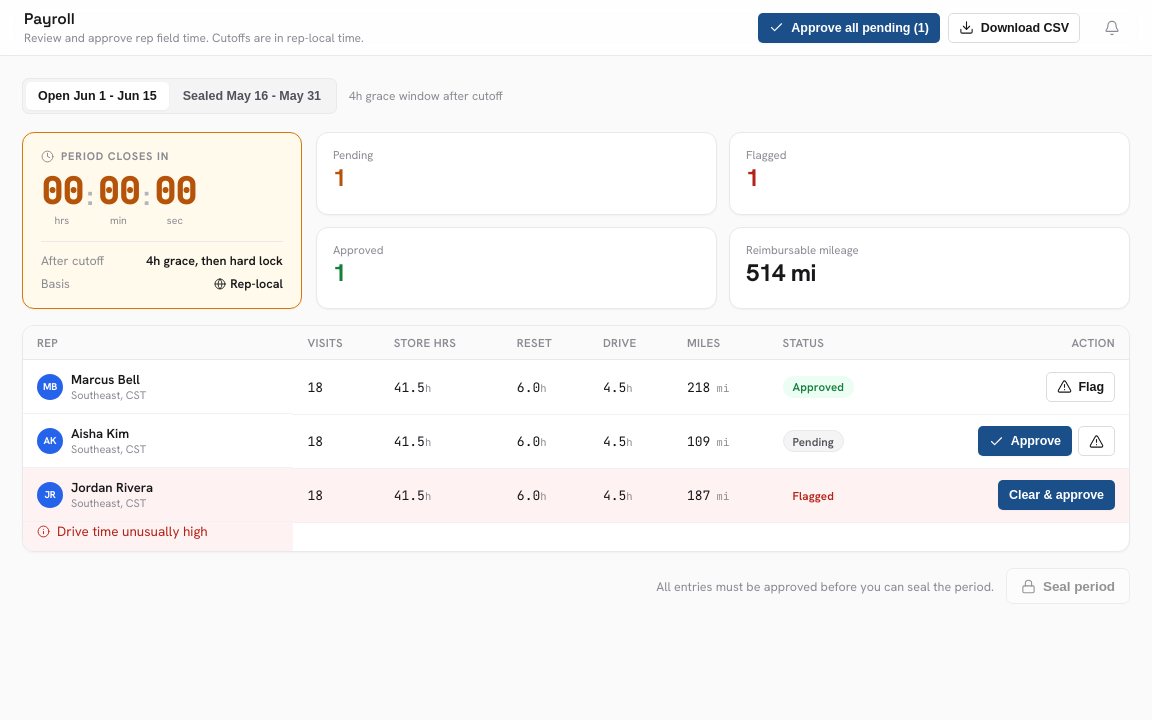
Test case: Payroll (admin) - sealed period › Reopen modal requires a reason before confirming
Expected: the text "Marcus Bell" is shown, [71,371,146,388]
Click the button "Sealed May 16 - May 31" at x=252, y=96, box [171,82,333,110]
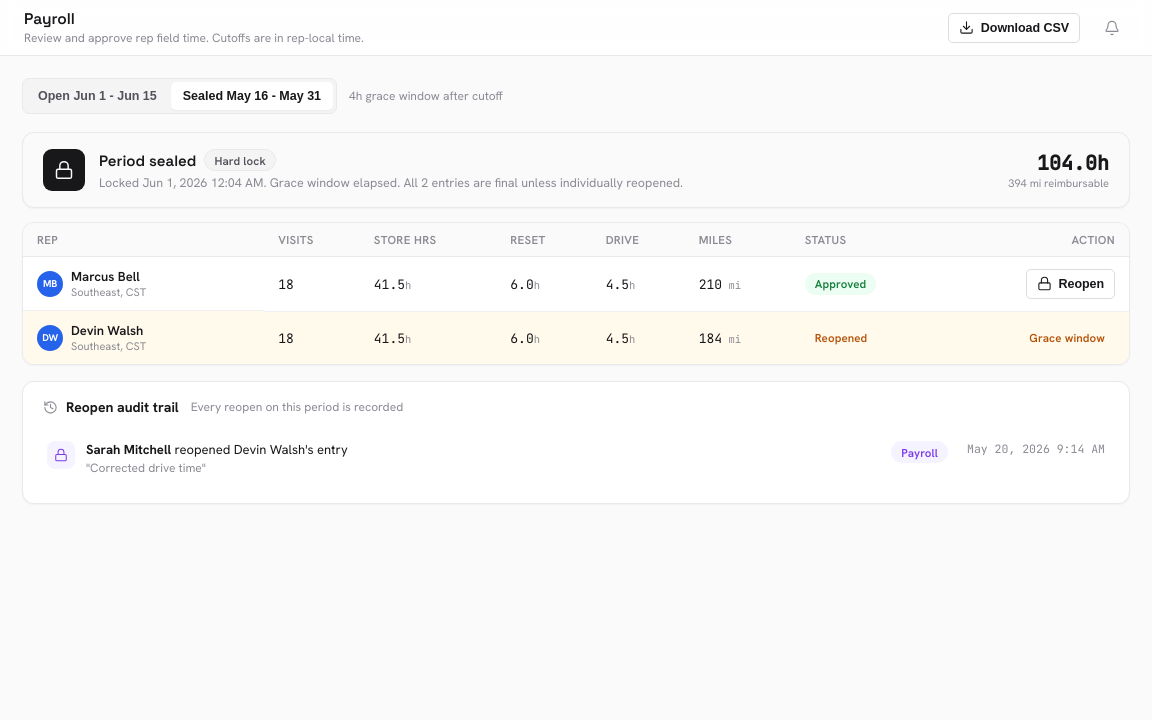
Expected: the heading "Period sealed" is shown, [99,150,196,170]
Expected: the button "Reopen" is shown
Click the button "Reopen" at x=1070, y=284, box [1026,269,1115,299]
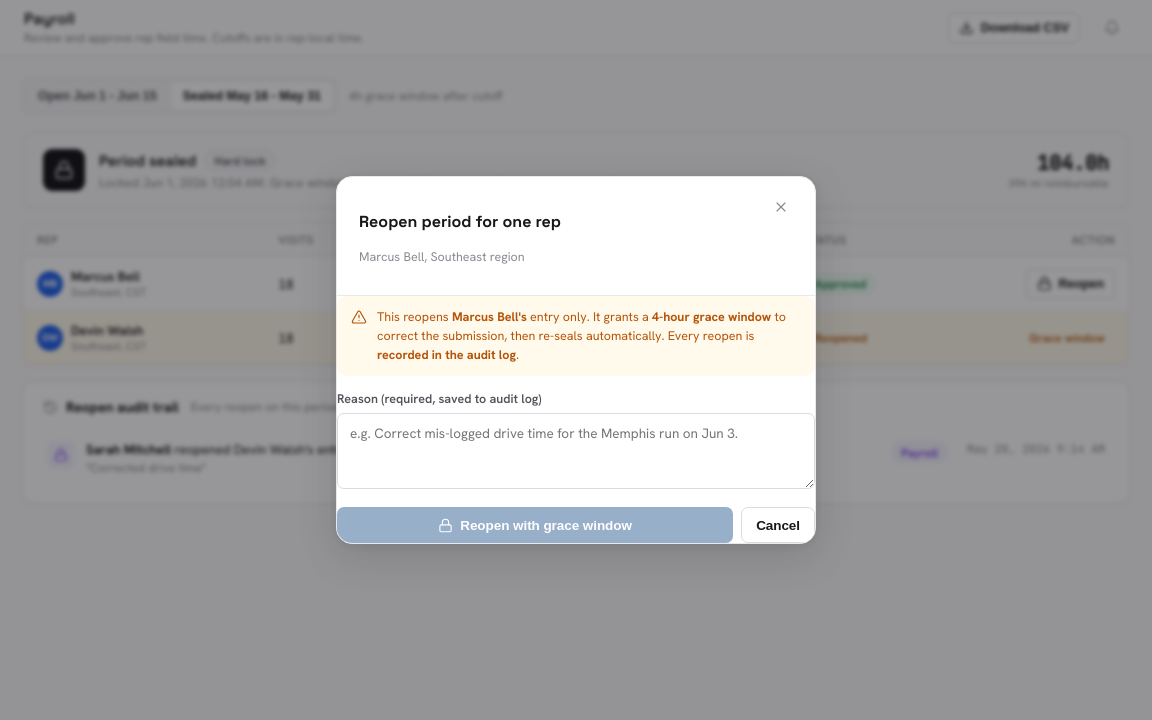
Expected: the dialog is shown, [336,176,816,544]
Expected: the button "Reopen with grace window" is disabled, [337,507,733,543]
Note: Type a reason
Replace the text in the text box named "Reopen reason" with "Corrected drive time" at x=576, y=451, box [337,413,815,489]
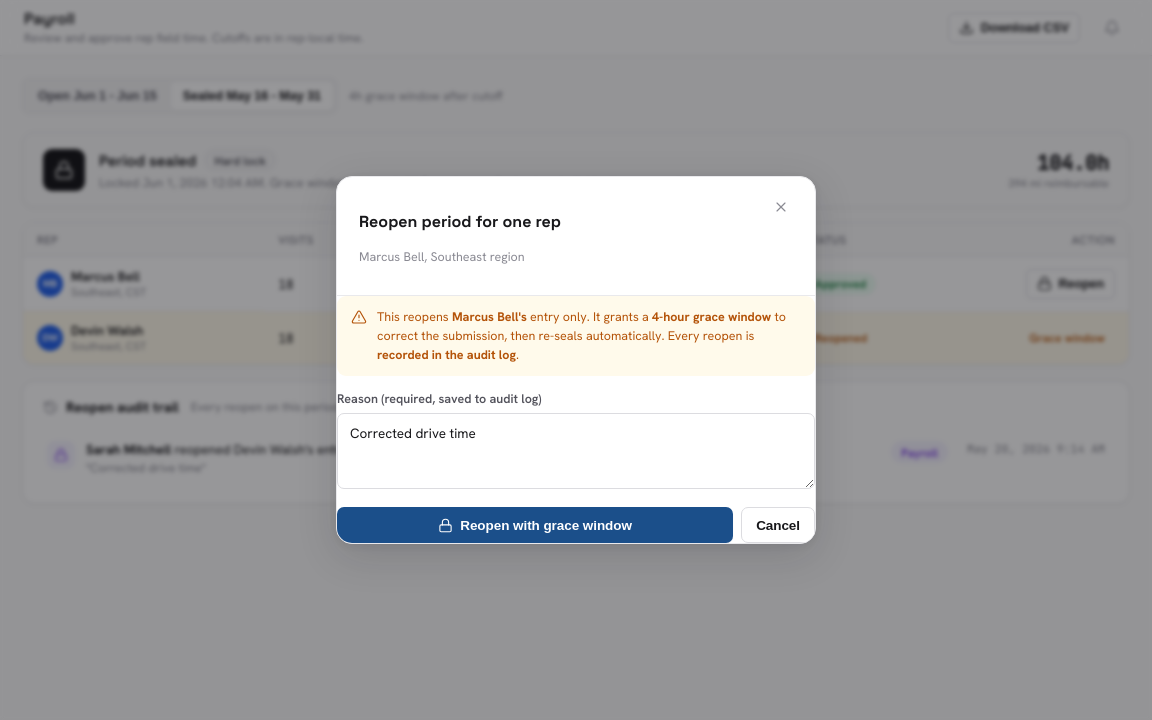
Expected: the button "Reopen with grace window" is enabled, [337,507,733,543]
